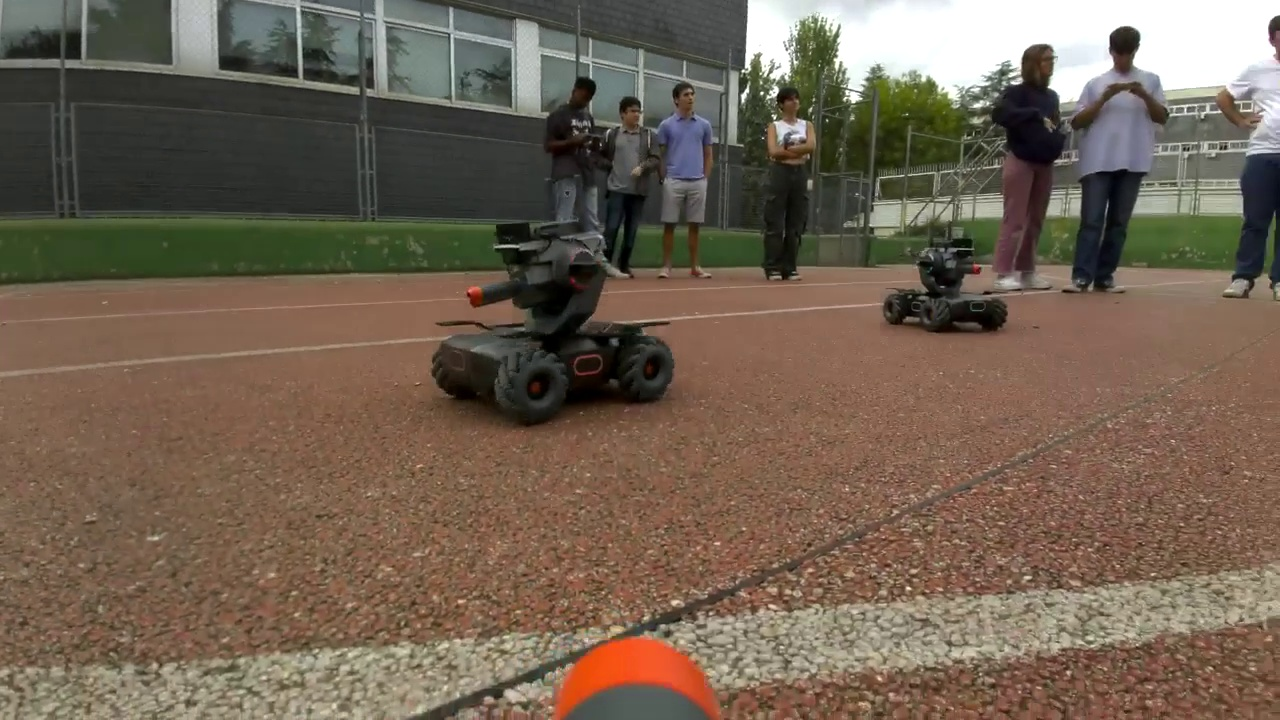robot: (433, 220, 675, 425), (882, 238, 1008, 334)
